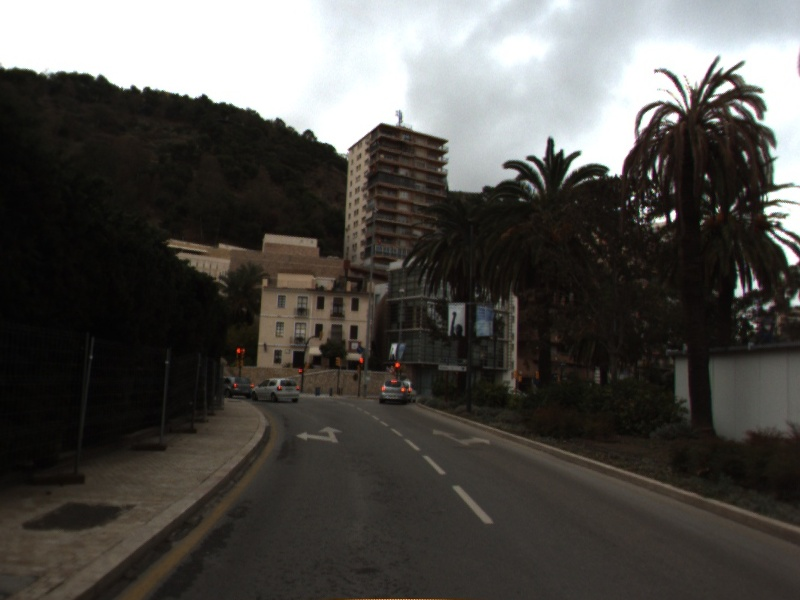STRAIGHT_LEFT: (294, 424, 346, 445)
STRAIGHT_RIGHT: (430, 426, 492, 448)
